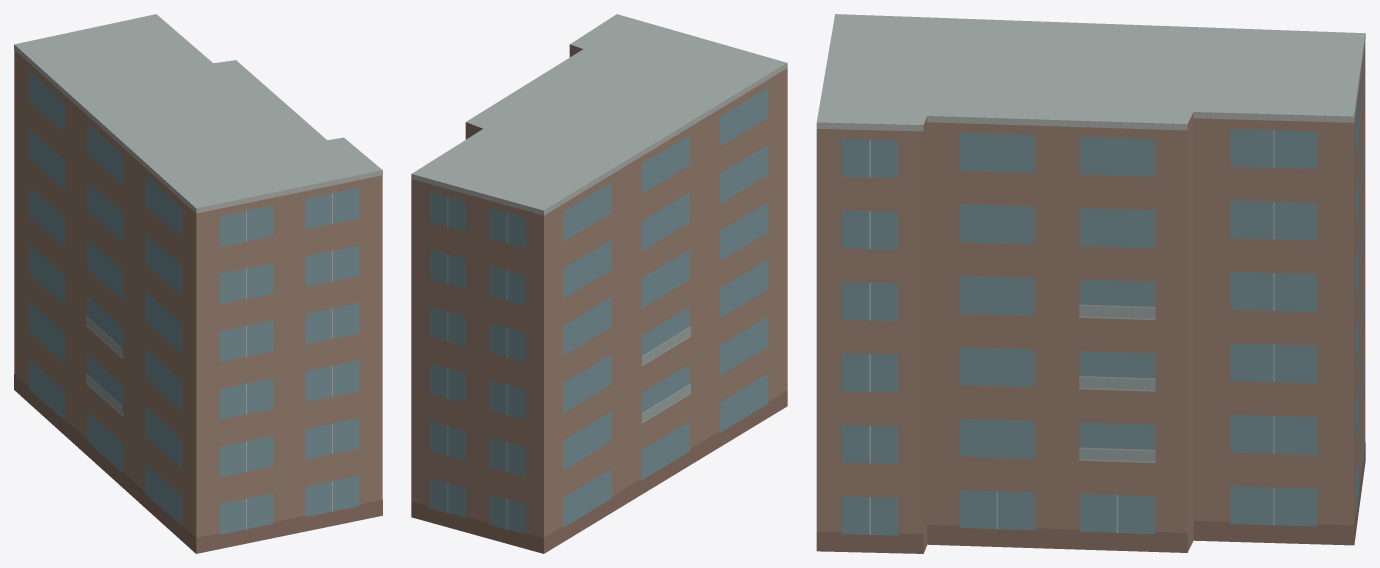
File: survey-upis-32973863.glb
3 renders of one model, left to right at view 1: azimuth 30°, elevation 25°; view 2: azimuth 150°, elevation 25°; view 3: azimuth 270°, elevation 25°, orthographic. The views are drawn at different scales.
Parts seen in each view (by area): view 1: survey-upis-32973863.tmp; view 2: survey-upis-32973863.tmp; view 3: survey-upis-32973863.tmp.
Part boxes in pixels (<box>): survey-upis-32973863.tmp: <box>14,14,382,553</box>; survey-upis-32973863.tmp: <box>411,14,787,553</box>; survey-upis-32973863.tmp: <box>816,14,1365,553</box>.
Size of the model in its own units: 9.18 by 16.5 by 19.15.
